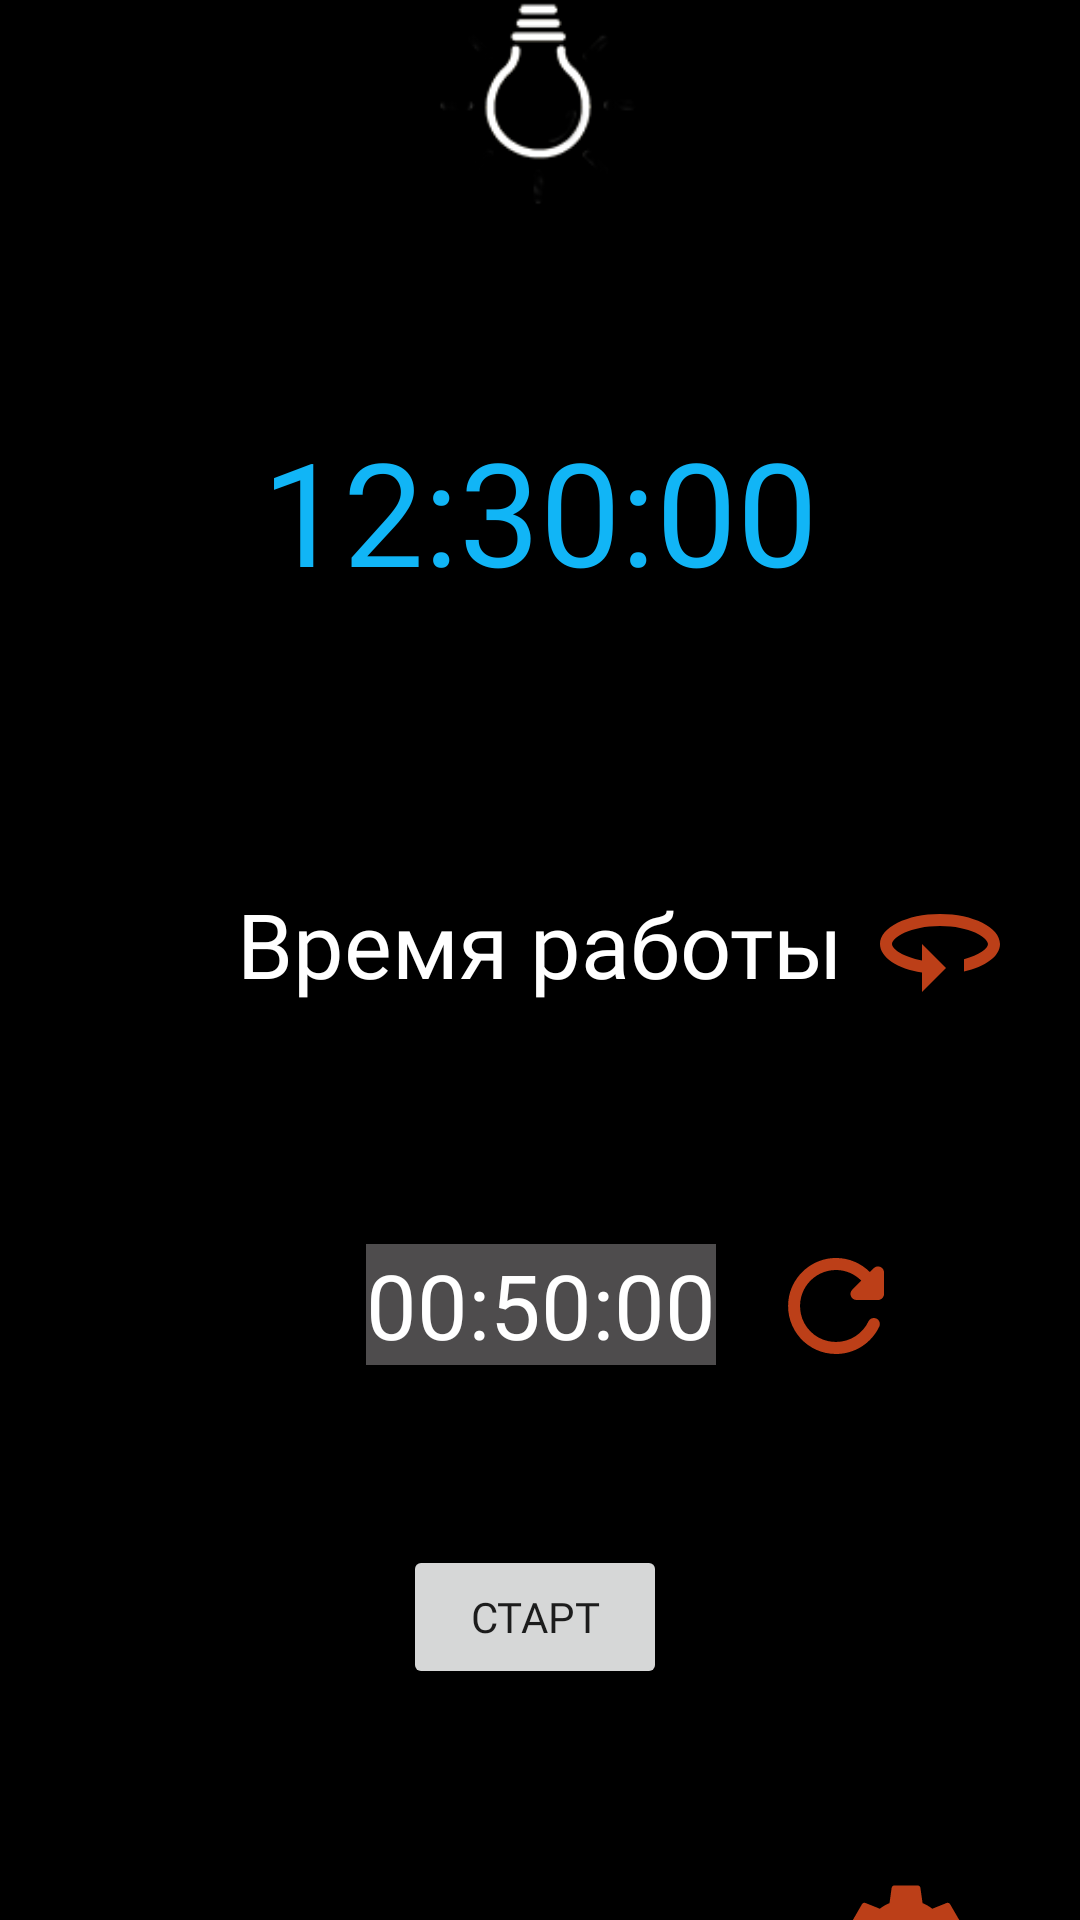

Where to tap for icons on this 1080 × 1920 app screen, as point (x, y):
refresh: point (836, 1306)
whitelampppp: point (523, 82)
